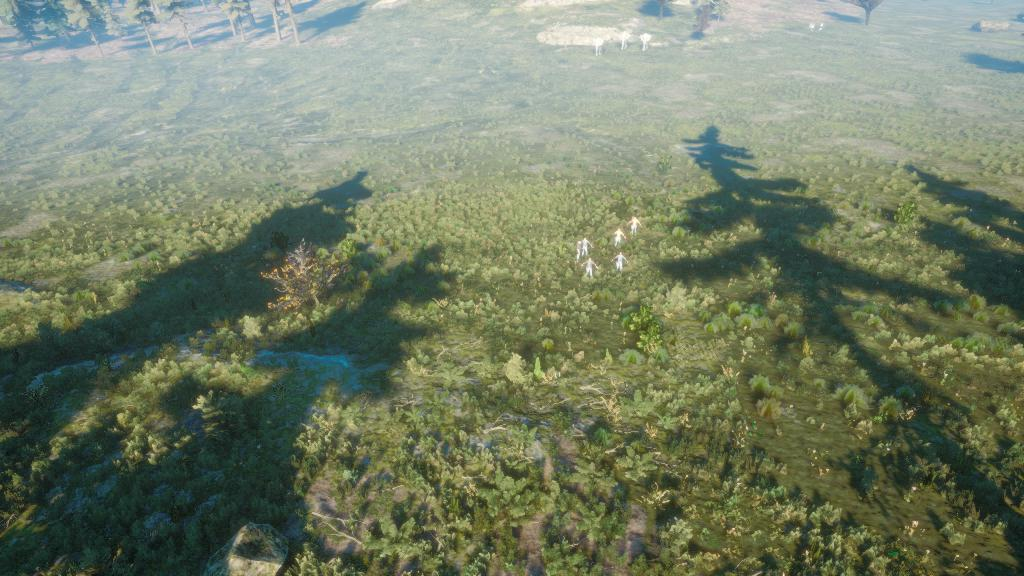elephant: (638, 26, 660, 64), (590, 28, 608, 63), (615, 23, 634, 55)
human: (565, 213, 652, 286)
